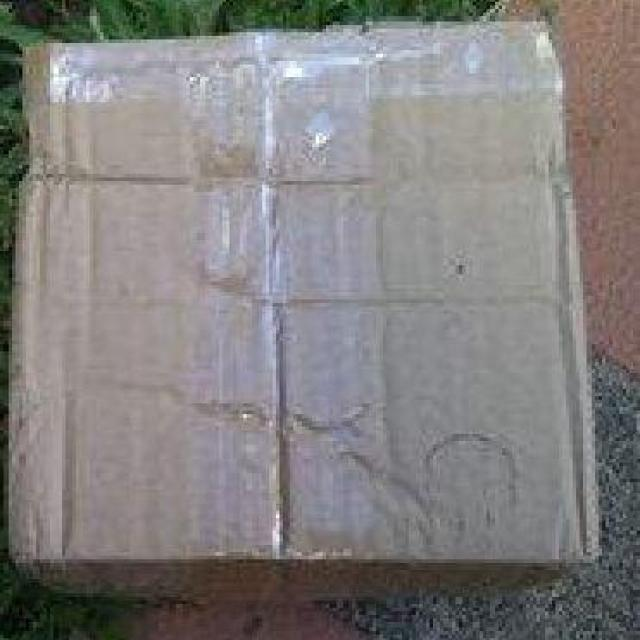cardboard: (18, 23, 602, 590)
